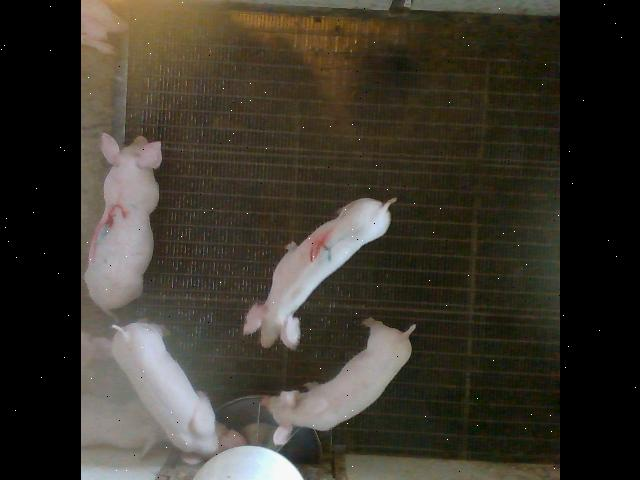pig-3: (84, 134, 161, 311)
pig-4: (243, 199, 395, 349)
